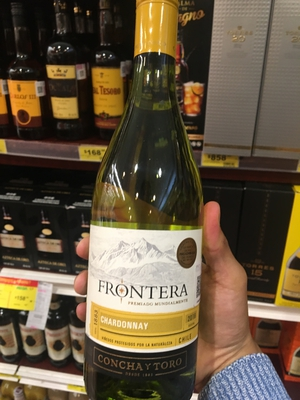frontera chardonnay: (76, 3, 223, 387)
